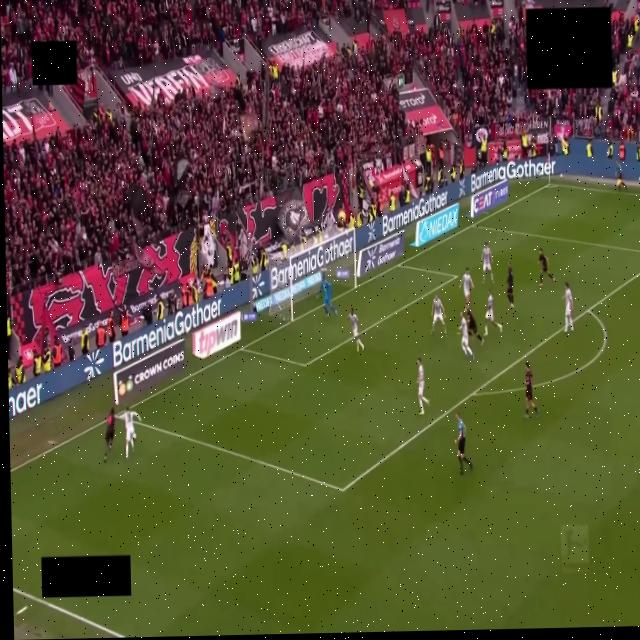ball: (133, 433, 137, 441)
player: (118, 407, 140, 458), (524, 362, 540, 419), (319, 271, 337, 317), (465, 304, 483, 344), (485, 290, 502, 332), (348, 308, 364, 351), (417, 358, 429, 415), (460, 313, 474, 360), (539, 249, 555, 286), (104, 409, 115, 462), (432, 294, 446, 335), (482, 242, 494, 283), (460, 269, 474, 303), (564, 283, 573, 332), (507, 262, 514, 309)
referee: (455, 414, 473, 474)
